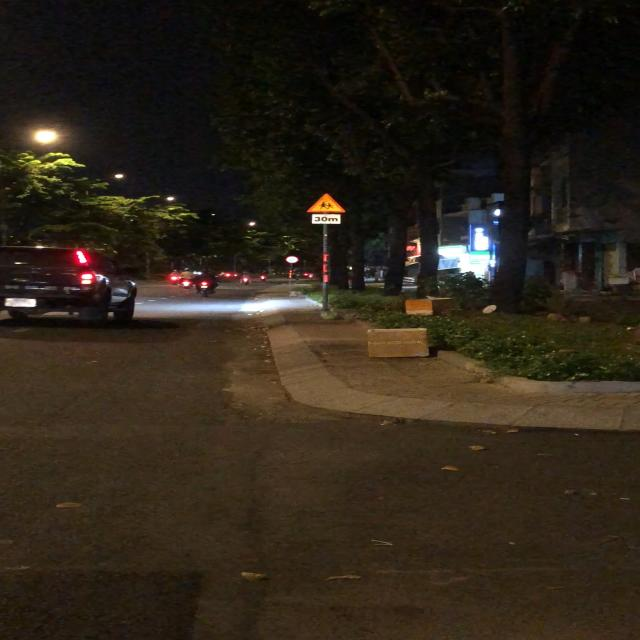Bien bao tre em: (306, 192, 347, 214)
